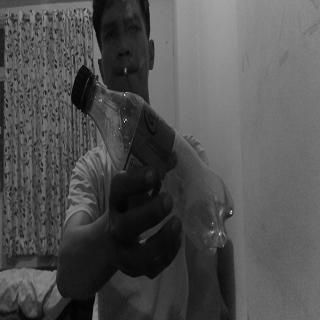plastic_bottles: (71, 65, 235, 258)
